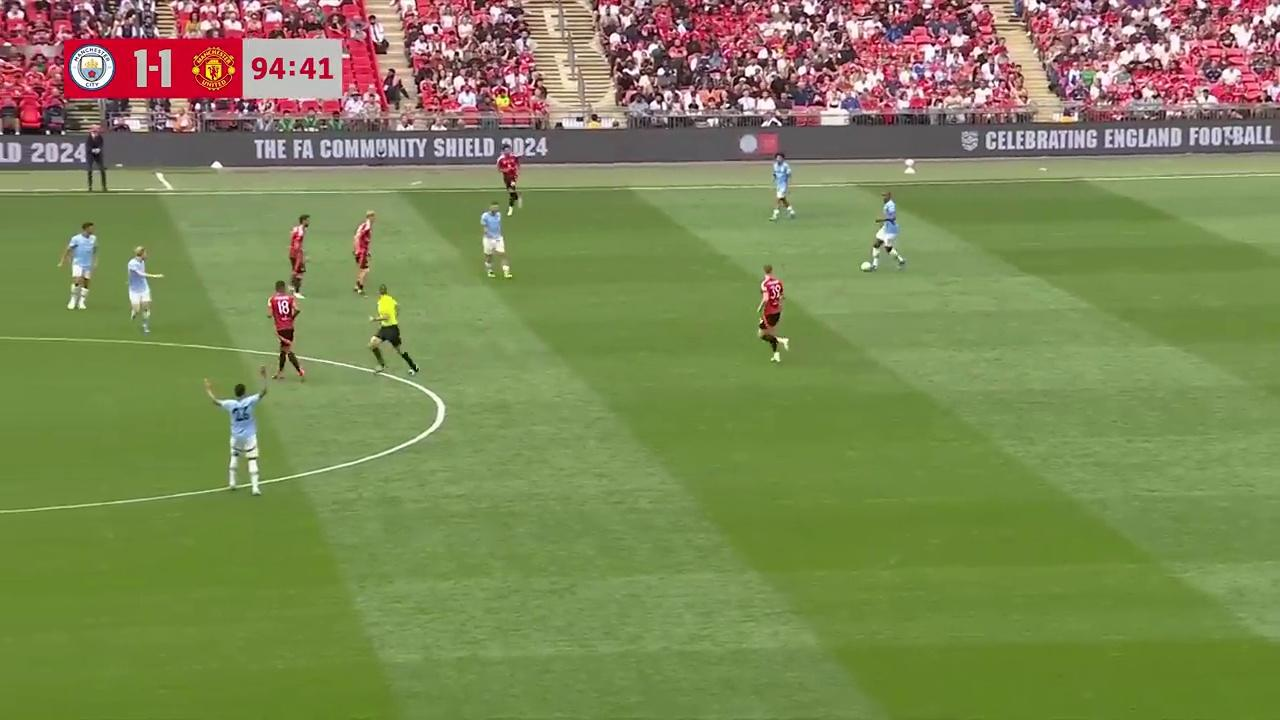ball: (859, 257, 873, 272)
player: (214, 382, 266, 493), (266, 281, 306, 382), (59, 221, 98, 311), (757, 264, 787, 362), (126, 245, 158, 333), (870, 191, 905, 269), (480, 203, 511, 279), (352, 210, 375, 294), (769, 152, 795, 222), (288, 214, 309, 296), (497, 148, 521, 213)
referee: (366, 283, 418, 377)
